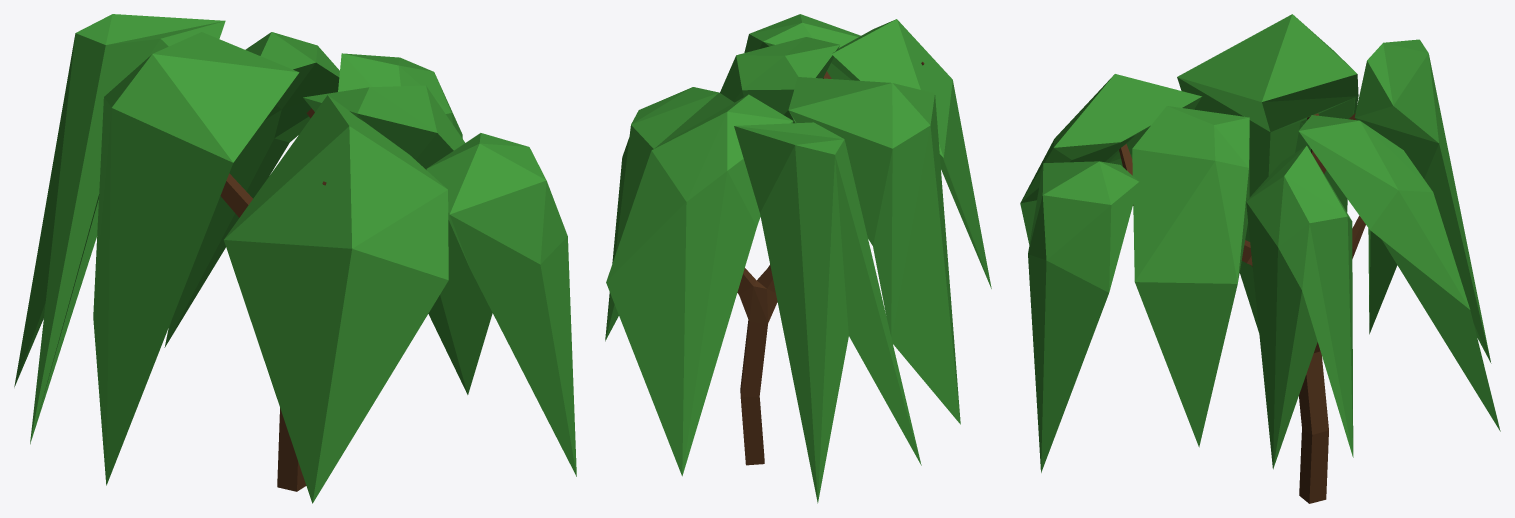
File: tree 4.glb
3 renders of one model, left to right at view 1: azimuth 30°, elevation 25°; view 2: azimuth 150°, elevation 25°; view 3: azimuth 270°, elevation 25°, orthographic. The views are drawn at different scales.
Parts seen in each view (by area): view 1: Icosphere.001, Icosphere, Icosphere.002, Icosphere.006, Icosphere.003, Icosphere.005, Icosphere.004, Plane; view 2: Icosphere.005, Icosphere.006, Icosphere, Icosphere.001, Icosphere.004, Icosphere.003, Plane, Icosphere.002; view 3: Icosphere.003, Icosphere.004, Icosphere.002, Icosphere.005, Icosphere, Icosphere.006, Icosphere.001, Plane.
Boxes of the visible parts, x1,y1,x2,y2 form: Icosphere.001: (224,95,448,503); Icosphere: (93,32,299,485); Icosphere.002: (426,133,576,476); Icosphere.006: (14,14,225,444); Icosphere.003: (303,85,492,394); Icosphere.005: (164,32,339,347); Icosphere.004: (338,53,462,138); Plane: (220,108,326,491); Icosphere.005: (606,94,793,476); Icosphere.006: (734,122,921,503); Icosphere: (788,77,960,424); Icosphere.001: (831,19,991,288); Icosphere.004: (605,87,734,341); Icosphere.003: (720,37,839,123); Plane: (737,62,924,465); Icosphere.002: (744,14,860,80); Icosphere.003: (1132,106,1249,447); Icosphere.004: (1246,145,1353,469); Icosphere.002: (1028,161,1138,472); Icosphere.005: (1299,115,1500,431); Icosphere: (1177,14,1358,332); Icosphere.006: (1354,39,1491,363); Icosphere.001: (1020,74,1201,244); Plane: (1119,113,1365,503).
Bounding box in the file's own units: 10.12 × 11.74 × 12.19.
